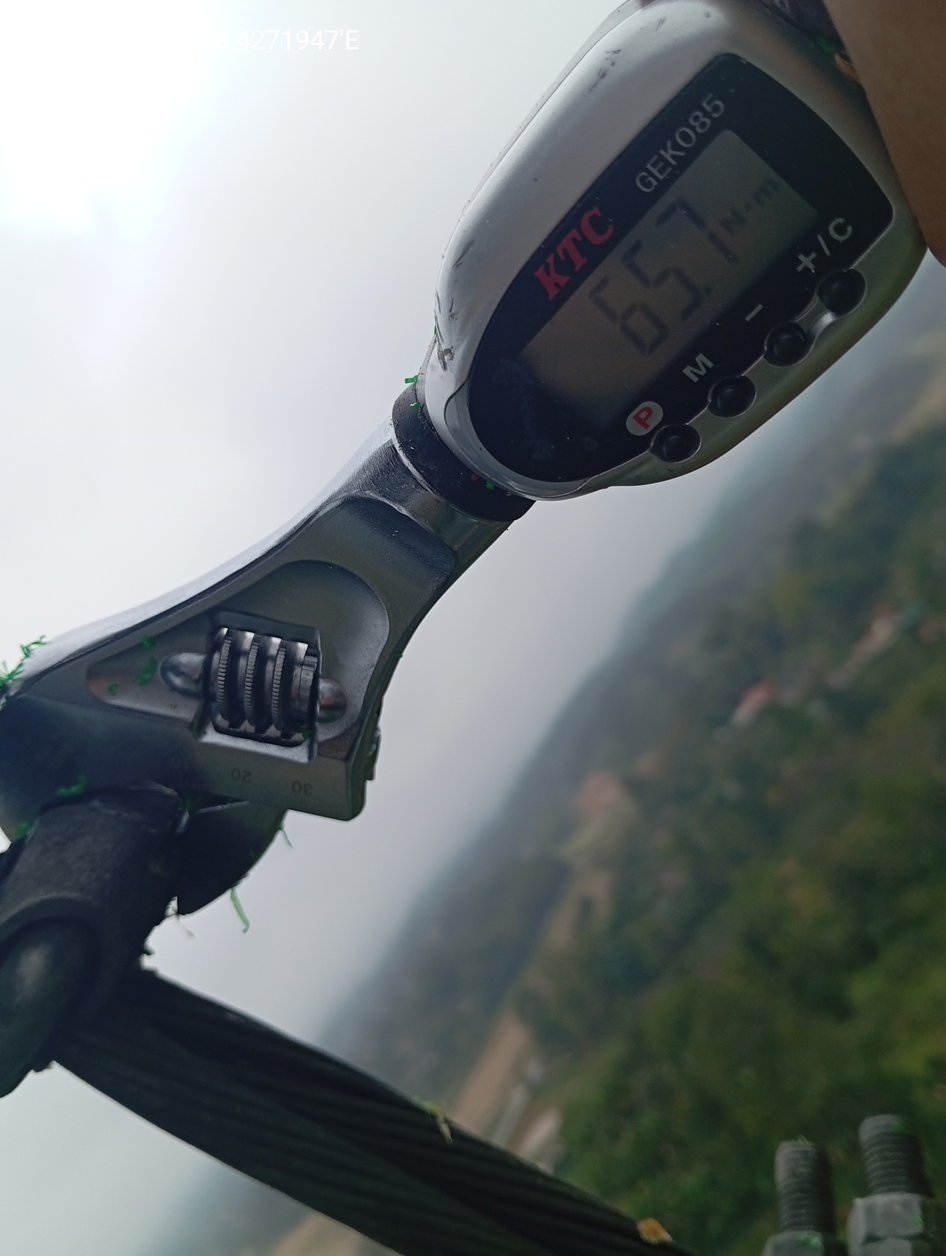lcd: (503, 117, 832, 447)
torque: (9, 0, 941, 975)
